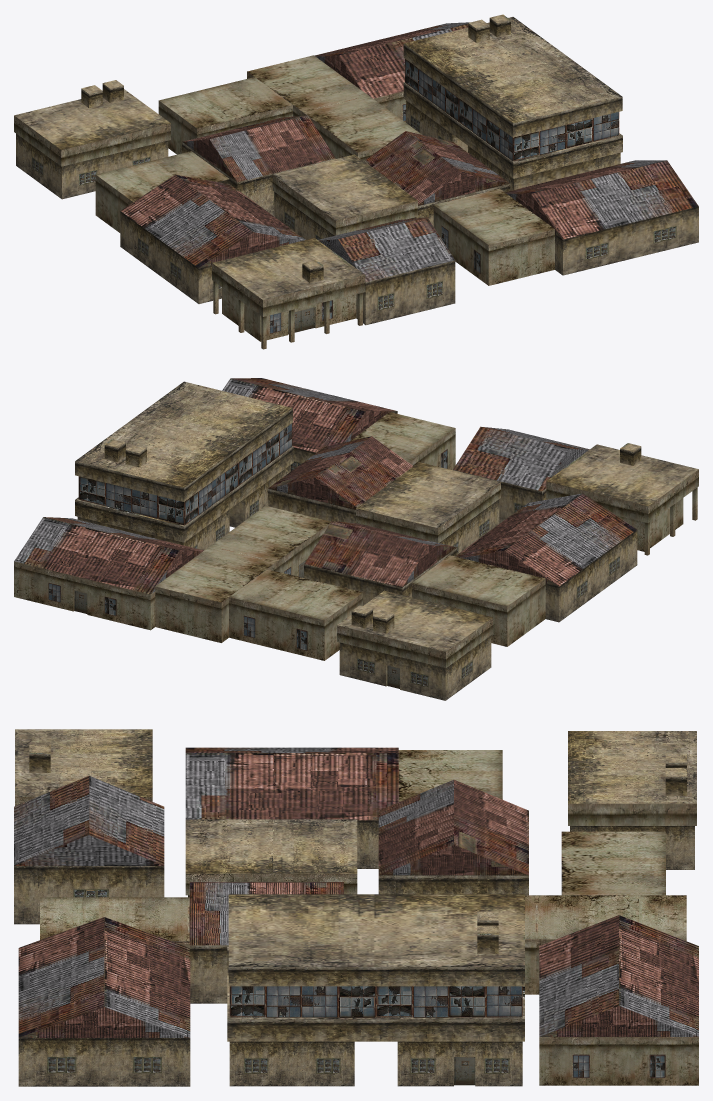
The model's file is MogBlk06.glb.
The picture shows the model from 3 angles, top to bottom: view 1: azimuth 30°, elevation 25°; view 2: azimuth 150°, elevation 25°; view 3: azimuth 270°, elevation 25°; orthographic projection. The views are drawn at different scales.
Parts seen in each view (by area): view 1: _MogBlk06; view 2: _MogBlk06; view 3: _MogBlk06.
Part boxes in pixels (x1,y1,x2,y2): _MogBlk06: (14,14,698,349); _MogBlk06: (14,378,698,700); _MogBlk06: (14,729,698,1086).
Bounding box in the file's own units: 64.15 × 14.36 × 63.82.
2 materials, 2 textured.
